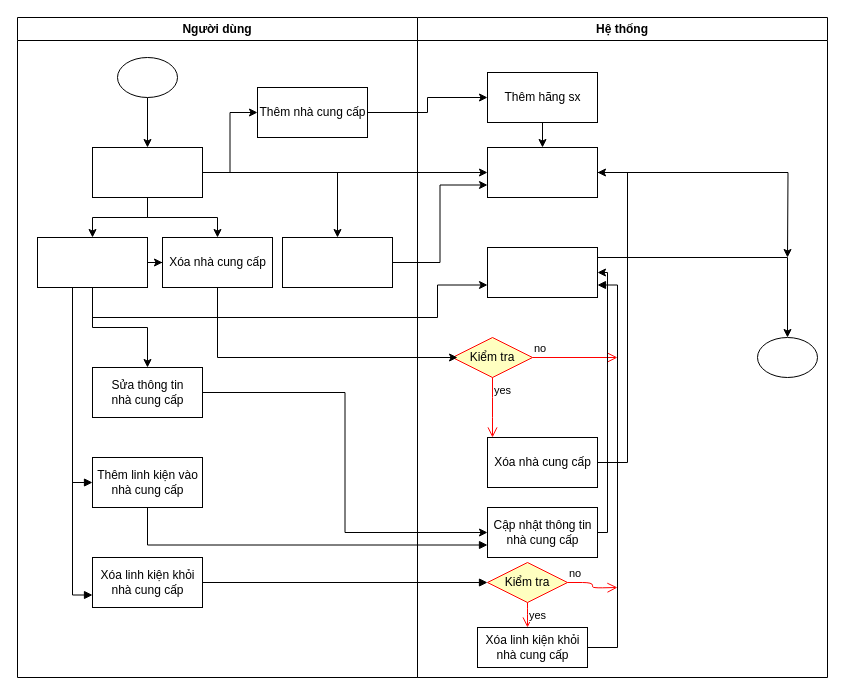
Image size: 845x695. Some labels were removed from this diagram. Each missing label, with the box of its shape:
End: (756, 336, 818, 378)
Hiển thị chi tiết nhà cung cấp: (486, 246, 598, 298)
Hiển thị danh sách nhà cung cấp: (486, 146, 598, 198)
Start: (116, 56, 178, 98)
Tìm kiếm nhà cung cấp: (282, 236, 392, 288)
Xem chi tiết nhà cung cấp: (36, 236, 148, 288)
Xem danh sách nhà cung cấp: (92, 146, 202, 198)
